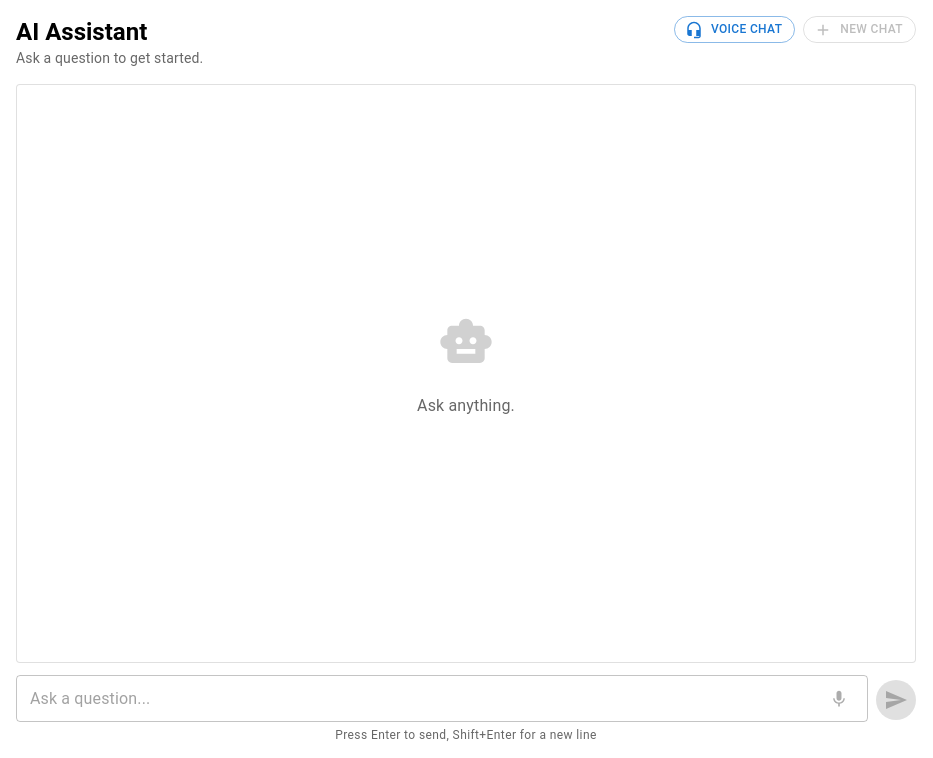
Test: AiChatPage voice chat › drops out of voice mode on a denied microphone instead of looping
This screenshot has width=933, height=758.
What coordinates should you click on to do the following:
click the button "Voice Chat"
I would click on:
 (735, 30)
Its box is [674,16,795,43].
Wait 1000 ms
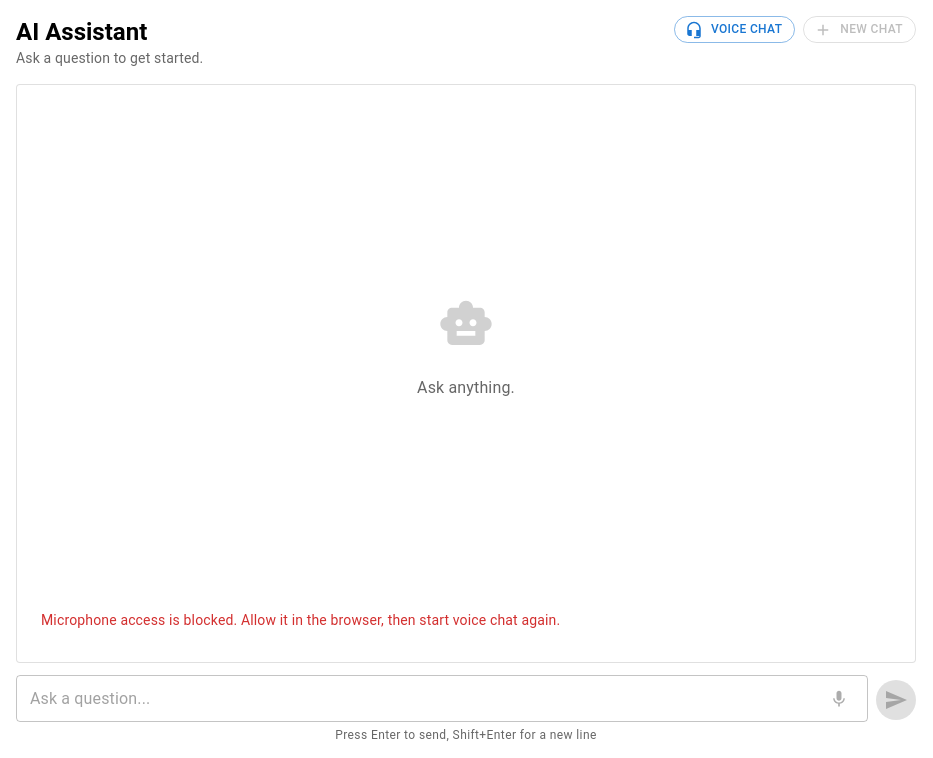
Check: the text "Microphone access is blocked" is shown, box [41,612,560,628]
